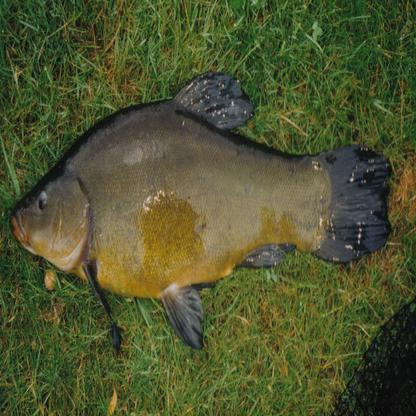fish: (11, 72, 389, 351)
